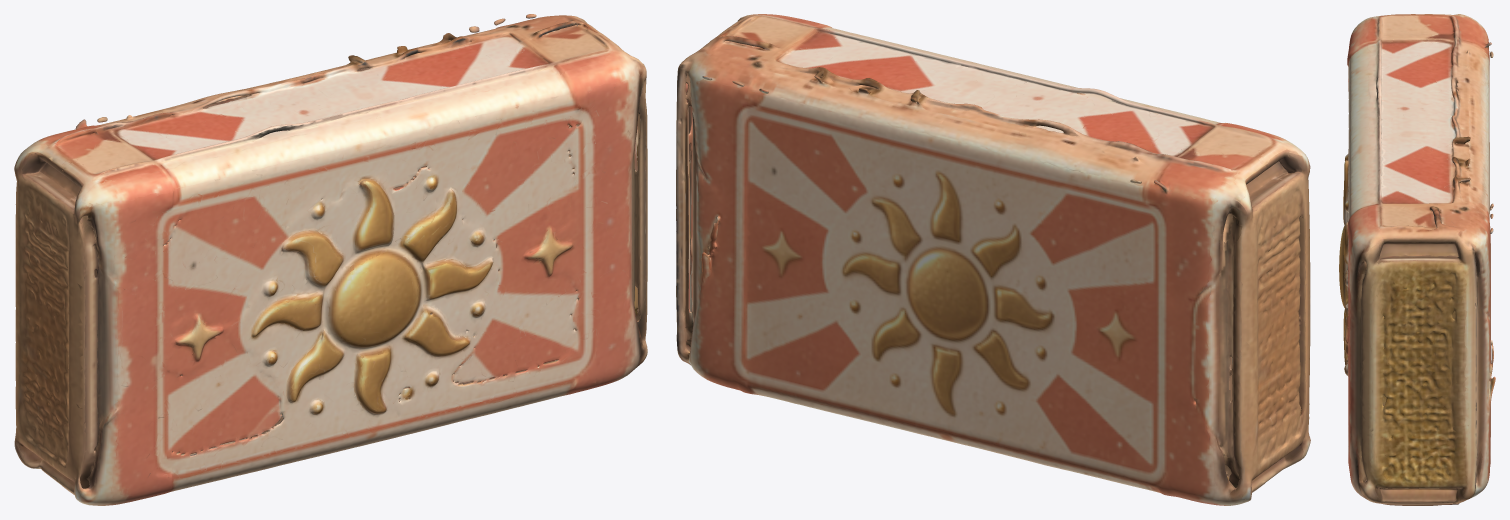
Rendered from A3_火柴盒_v2.glb.
3 renders of one model, left to right at view 1: azimuth 30°, elevation 25°; view 2: azimuth 150°, elevation 25°; view 3: azimuth 270°, elevation 25°, orthographic. The views are drawn at different scales.
Visible parts, largest first — view 1: A3_body; view 2: A3_body; view 3: A3_body.
Boxes of the visible parts, <box> form: A3_body: <box>14,14,647,505</box>; A3_body: <box>676,14,1310,505</box>; A3_body: <box>1339,14,1495,505</box>.
Size of the model in its own units: 0.2834 by 0.16 by 0.0795.
1 material, 1 textured.
